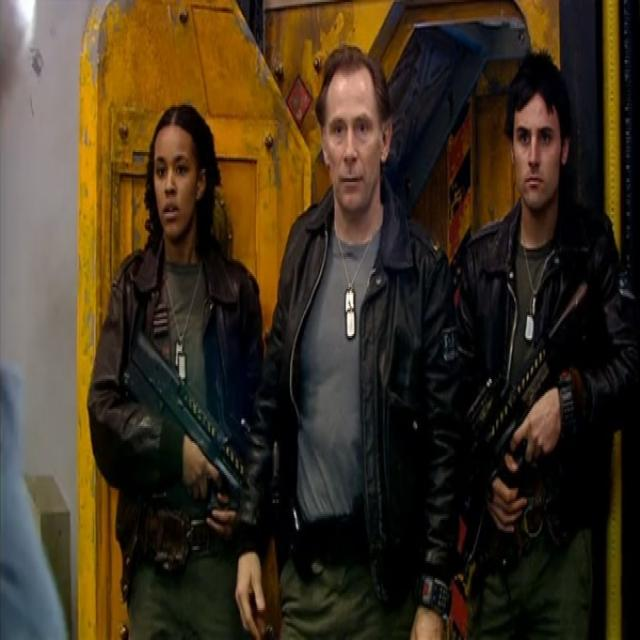rifle: (464, 275, 596, 512), (121, 329, 263, 526)
